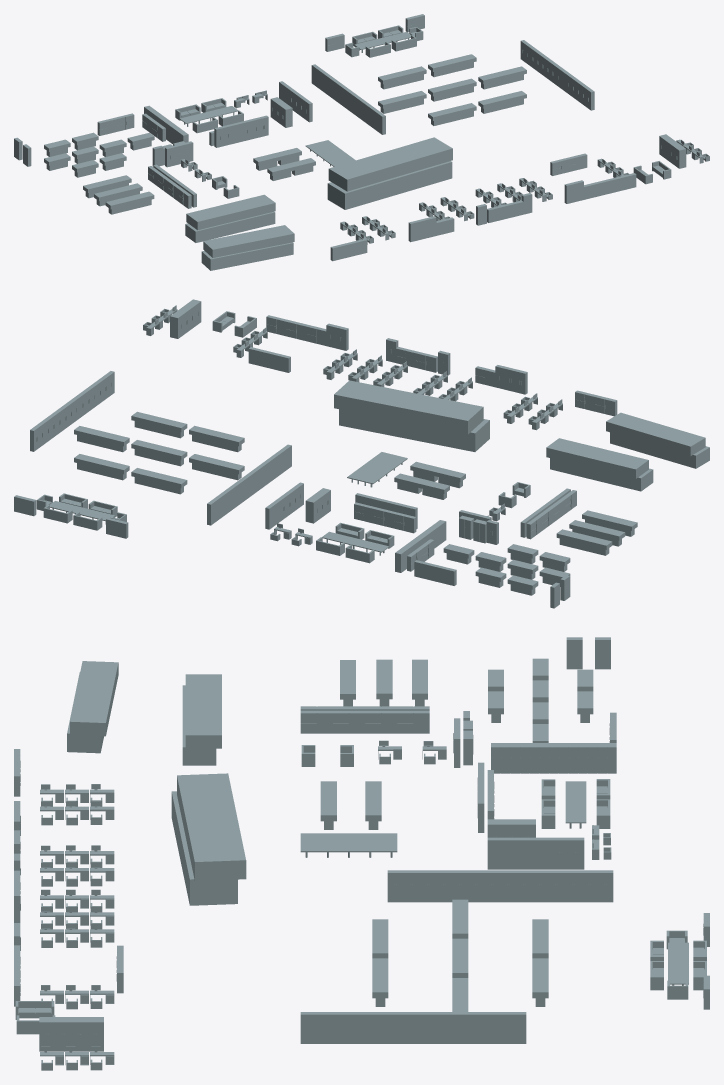
Rendered from Obstacles.dae.
The picture shows the model from 3 angles, top to bottom: view 1: azimuth 30°, elevation 25°; view 2: azimuth 150°, elevation 25°; view 3: azimuth 270°, elevation 25°; orthographic projection. The views are drawn at different scales.
Parts seen in each view (by area): view 1: Part 100, Part 274, Part 188, Part 243, Part 240, Part 152, Part 260, Part 64, Part 131, Part 43, Part 173, Part 155 (+2 smaller); view 2: Part 100, Part 188, Part 274, Part 67, Part 131, Part 173, Part 152, Part 43, Part 240, Part 260, Part 64, Part 243 (+5 smaller); view 3: Part 100, Part 274, Part 188, Part 275, Part 78, Part 189, Part 44, Part 252, Part 165, Part 56, Part 144, Part 64 (+9 smaller).
Part boxes in pixels (x1,y1,x2,y2): Part 100: (327,137,452,209); Part 274: (201,225,294,270); Part 188: (185,194,275,242); Part 243: (105,191,154,214); Part 240: (378,91,426,113); Part 152: (378,66,426,89); Part 260: (478,66,526,89); Part 64: (428,54,476,77); Part 131: (478,91,526,113); Part 43: (428,103,476,125); Part 173: (428,78,476,101); Part 155: (94,183,142,206); Part 100: (334,380,489,451); Part 188: (546,438,653,491); Part 274: (606,412,709,468); Part 67: (556,529,612,555); Part 131: (131,411,187,438); Part 173: (131,440,187,466); Part 152: (131,468,187,494); Part 43: (189,425,244,452); Part 240: (189,454,244,480); Part 260: (74,426,129,452); Part 64: (74,454,129,480); Part 243: (582,510,637,536); Part 100: (171,773,246,905); Part 274: (67,661,118,753); Part 188: (182,674,221,765); Part 275: (300,842,397,857); Part 78: (300,833,397,842); Part 189: (565,781,586,828); Part 44: (668,942,688,985); Part 252: (397,710,429,733); Part 165: (300,710,332,733); Part 56: (333,710,365,733); Part 144: (365,710,397,733); Part 64: (532,958,548,1006).
Size of the model in its own units: 59.32 by 43.2 by 3.1.
